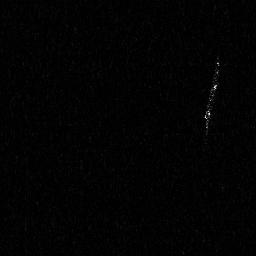ship: (202, 52, 222, 137)
